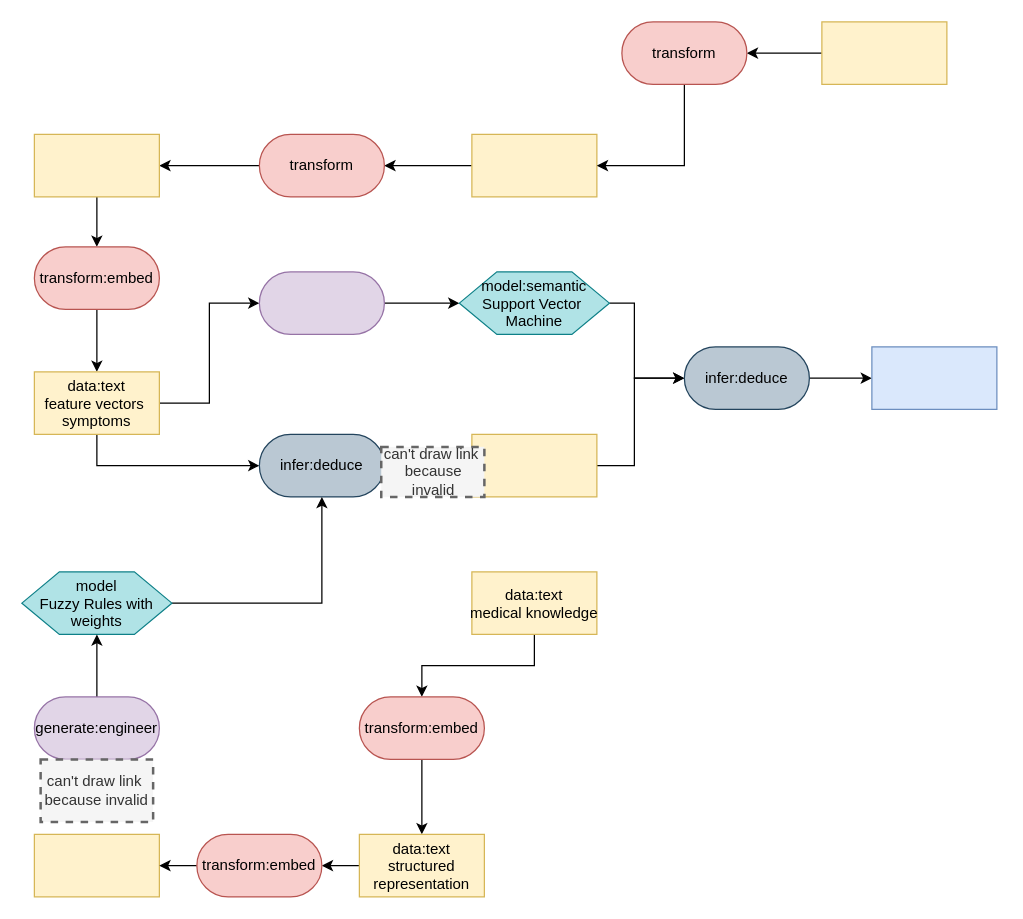
Image size: 1023x919. Some labels were removed from this diagram. The shapes that lost their labels are listed below. From the top down, each one's centre as x and y in pixels, then its label:
At [884,52]: "data:text symptoms".
At [96,165]: "data:text tokens".
At [534,165]: "data:text symptoms cleaned".
At [321,302]: "generate:train".
At [934,377]: "symbol:text possible diagnosis ranked by likelihood".
At [534,465]: "data possible diagnosis with likelihood".
At [96,865]: "data:text fuzzy rules".
